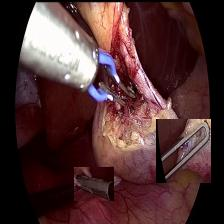Bipolar: (78, 40, 130, 108)
Grasper: (155, 118, 210, 182), (73, 166, 113, 200)
